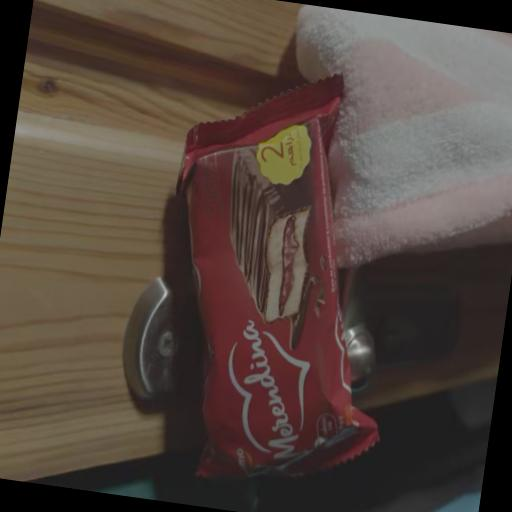merendina: (112, 43, 471, 512)
